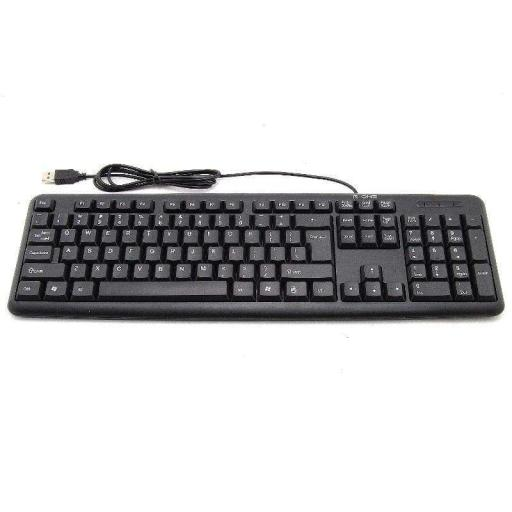keyboard: (9, 193, 503, 319)
